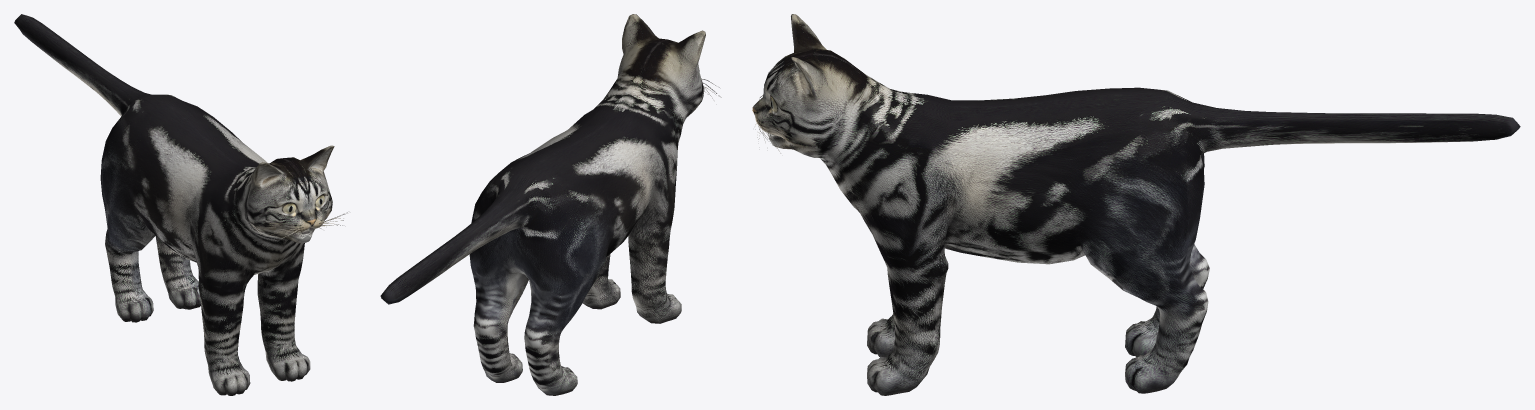
3 renders of one model, left to right at view 1: azimuth 30°, elevation 25°; view 2: azimuth 150°, elevation 25°; view 3: azimuth 270°, elevation 25°, orthographic. The views are drawn at different scales.
Visible parts, largest first — view 1: Mesh_0; view 2: Mesh_0; view 3: Mesh_0.
Part boxes in pixels (box(x1,y1,x2,y2)): Mesh_0: box(14, 14, 347, 395); Mesh_0: box(380, 14, 721, 395); Mesh_0: box(752, 14, 1520, 395).
Bounding box in the file's own units: 44.95 × 95.79 × 200.
Materials: 1 (1 with a texture image).
